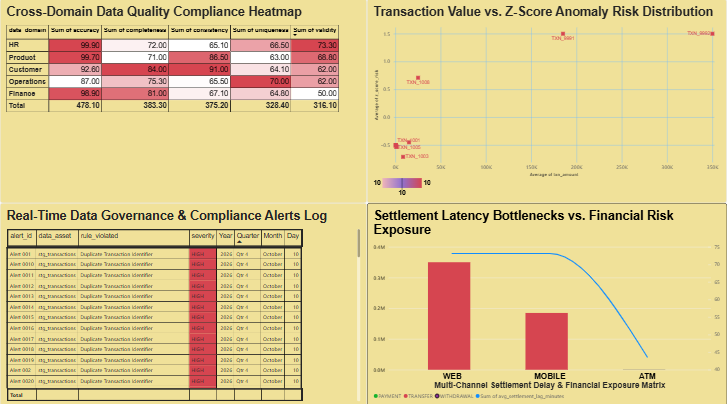

The dashboard page shown, as its layout file describes it:
{"tool":"powerbi","page":{"name":"Data Governance & Heatmap","canvas":[1920,1080],"ordinal":1},"visuals":[{"type":"pivotTable","title":"Cross-Domain Data Quality Compliance Heatmap","fields":{"Rows":["audit v_dq_heatmap.data_domain"],"Values":["Sum(audit v_dq_heatmap.accuracy)","Sum(audit v_dq_heatmap.completeness)","Sum(audit v_dq_heatmap.consistency)","Sum(audit v_dq_heatmap.uniqueness)","Sum(audit v_dq_heatmap.validity)"]},"box":[0,0,969.2,538.8],"z":0},{"type":"tableEx","title":"Real-Time Data Governance & Compliance Alerts Log","fields":{"Values":["audit v_governance_alerts.alert_id","audit v_governance_alerts.data_asset","audit v_governance_alerts.rule_violated","audit v_governance_alerts.severity","audit v_governance_alerts.timestamp.Variation.Date Hierarchy.Year","audit v_governance_alerts.timestamp.Variation.Date Hierarchy.Quarter","audit v_governance_alerts.timestamp.Variation.Date Hierarchy.Month","audit v_governance_alerts.timestamp.Variation.Date Hierarchy.Day"]},"box":[0,538.8,969.2,541.4],"z":1000},{"type":"scatterChart","title":"Transaction Value vs. Z-Score Anomaly Risk Distribution","fields":{"Category":["audit v_transaction_anomaly_analytics.txn_id"],"Series":["audit v_transaction_anomaly_analytics.risk_tier"],"X":["Avg(audit v_transaction_anomaly_analytics.txn_amount)"],"Y":["Avg(audit v_transaction_anomaly_analytics.z_score_risk)"]},"box":[970,0,950,539],"z":2000},{"type":"lineStackedColumnComboChart","title":"Settlement Latency Bottlenecks vs. Financial Risk Exposure","fields":{"Category":["audit v_settlement_lag_variance.channel"],"Series":["audit v_settlement_lag_variance.txn_type"],"Y":["Sum(audit v_settlement_lag_variance.net_unreconciled_variance)"],"Y2":["Sum(audit v_settlement_lag_variance.avg_settlement_lag_minutes)"]},"box":[969.2,538.8,950.8,541.4],"z":2001}]}

Visuals, with their boxes in screenshot pixels (x1, y1, x2, y2), scaled from the page's 1920x1080 canvas onto the 727x404 screenshot:
"Cross-Domain Data Quality Compliance Heatmap" pivotTable: 0, 0, 367, 202
"Real-Time Data Governance & Compliance Alerts Log" tableEx: 0, 202, 367, 403
"Transaction Value vs. Z-Score Anomaly Risk Distribution" scatterChart: 367, 0, 726, 202
"Settlement Latency Bottlenecks vs. Financial Risk Exposure" lineStackedColumnComboChart: 367, 202, 726, 403
